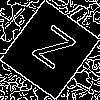Z: (25, 24, 77, 79)
